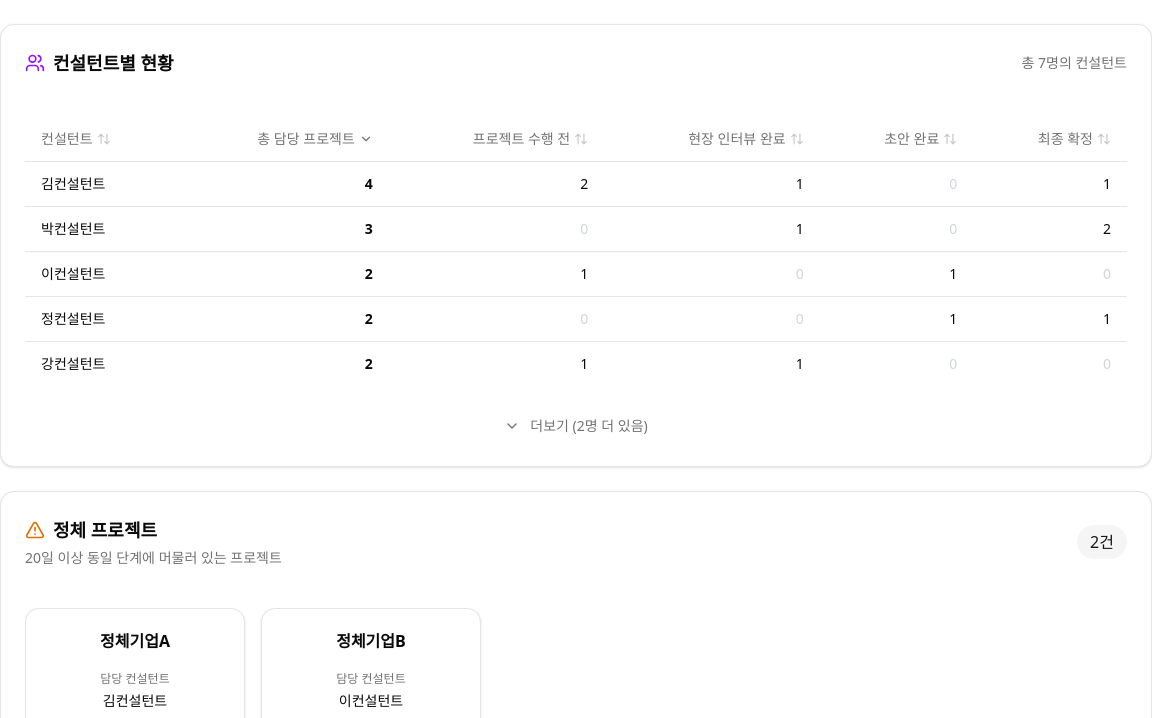
Test: ProjectDashboard › 컨설턴트별 현황 테이블 › 더보기 버튼 클릭 시 모든 컨설턴트를 표시한다
Click the button "더보기 (2명 더 있음)" at (576, 426), box [494, 410, 658, 442]
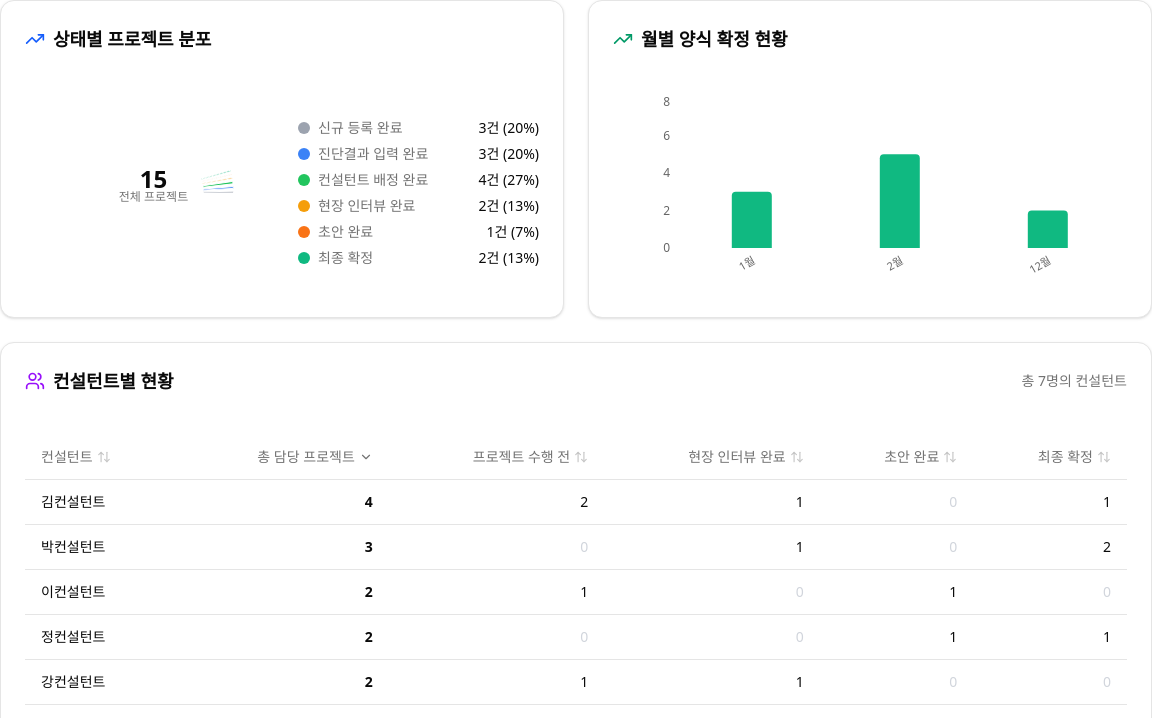
Expected: the number of rows is 8
